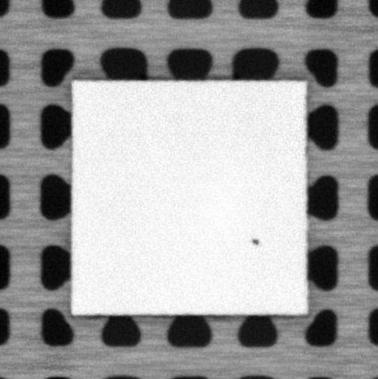DIE_INK: (250, 235, 261, 246)
